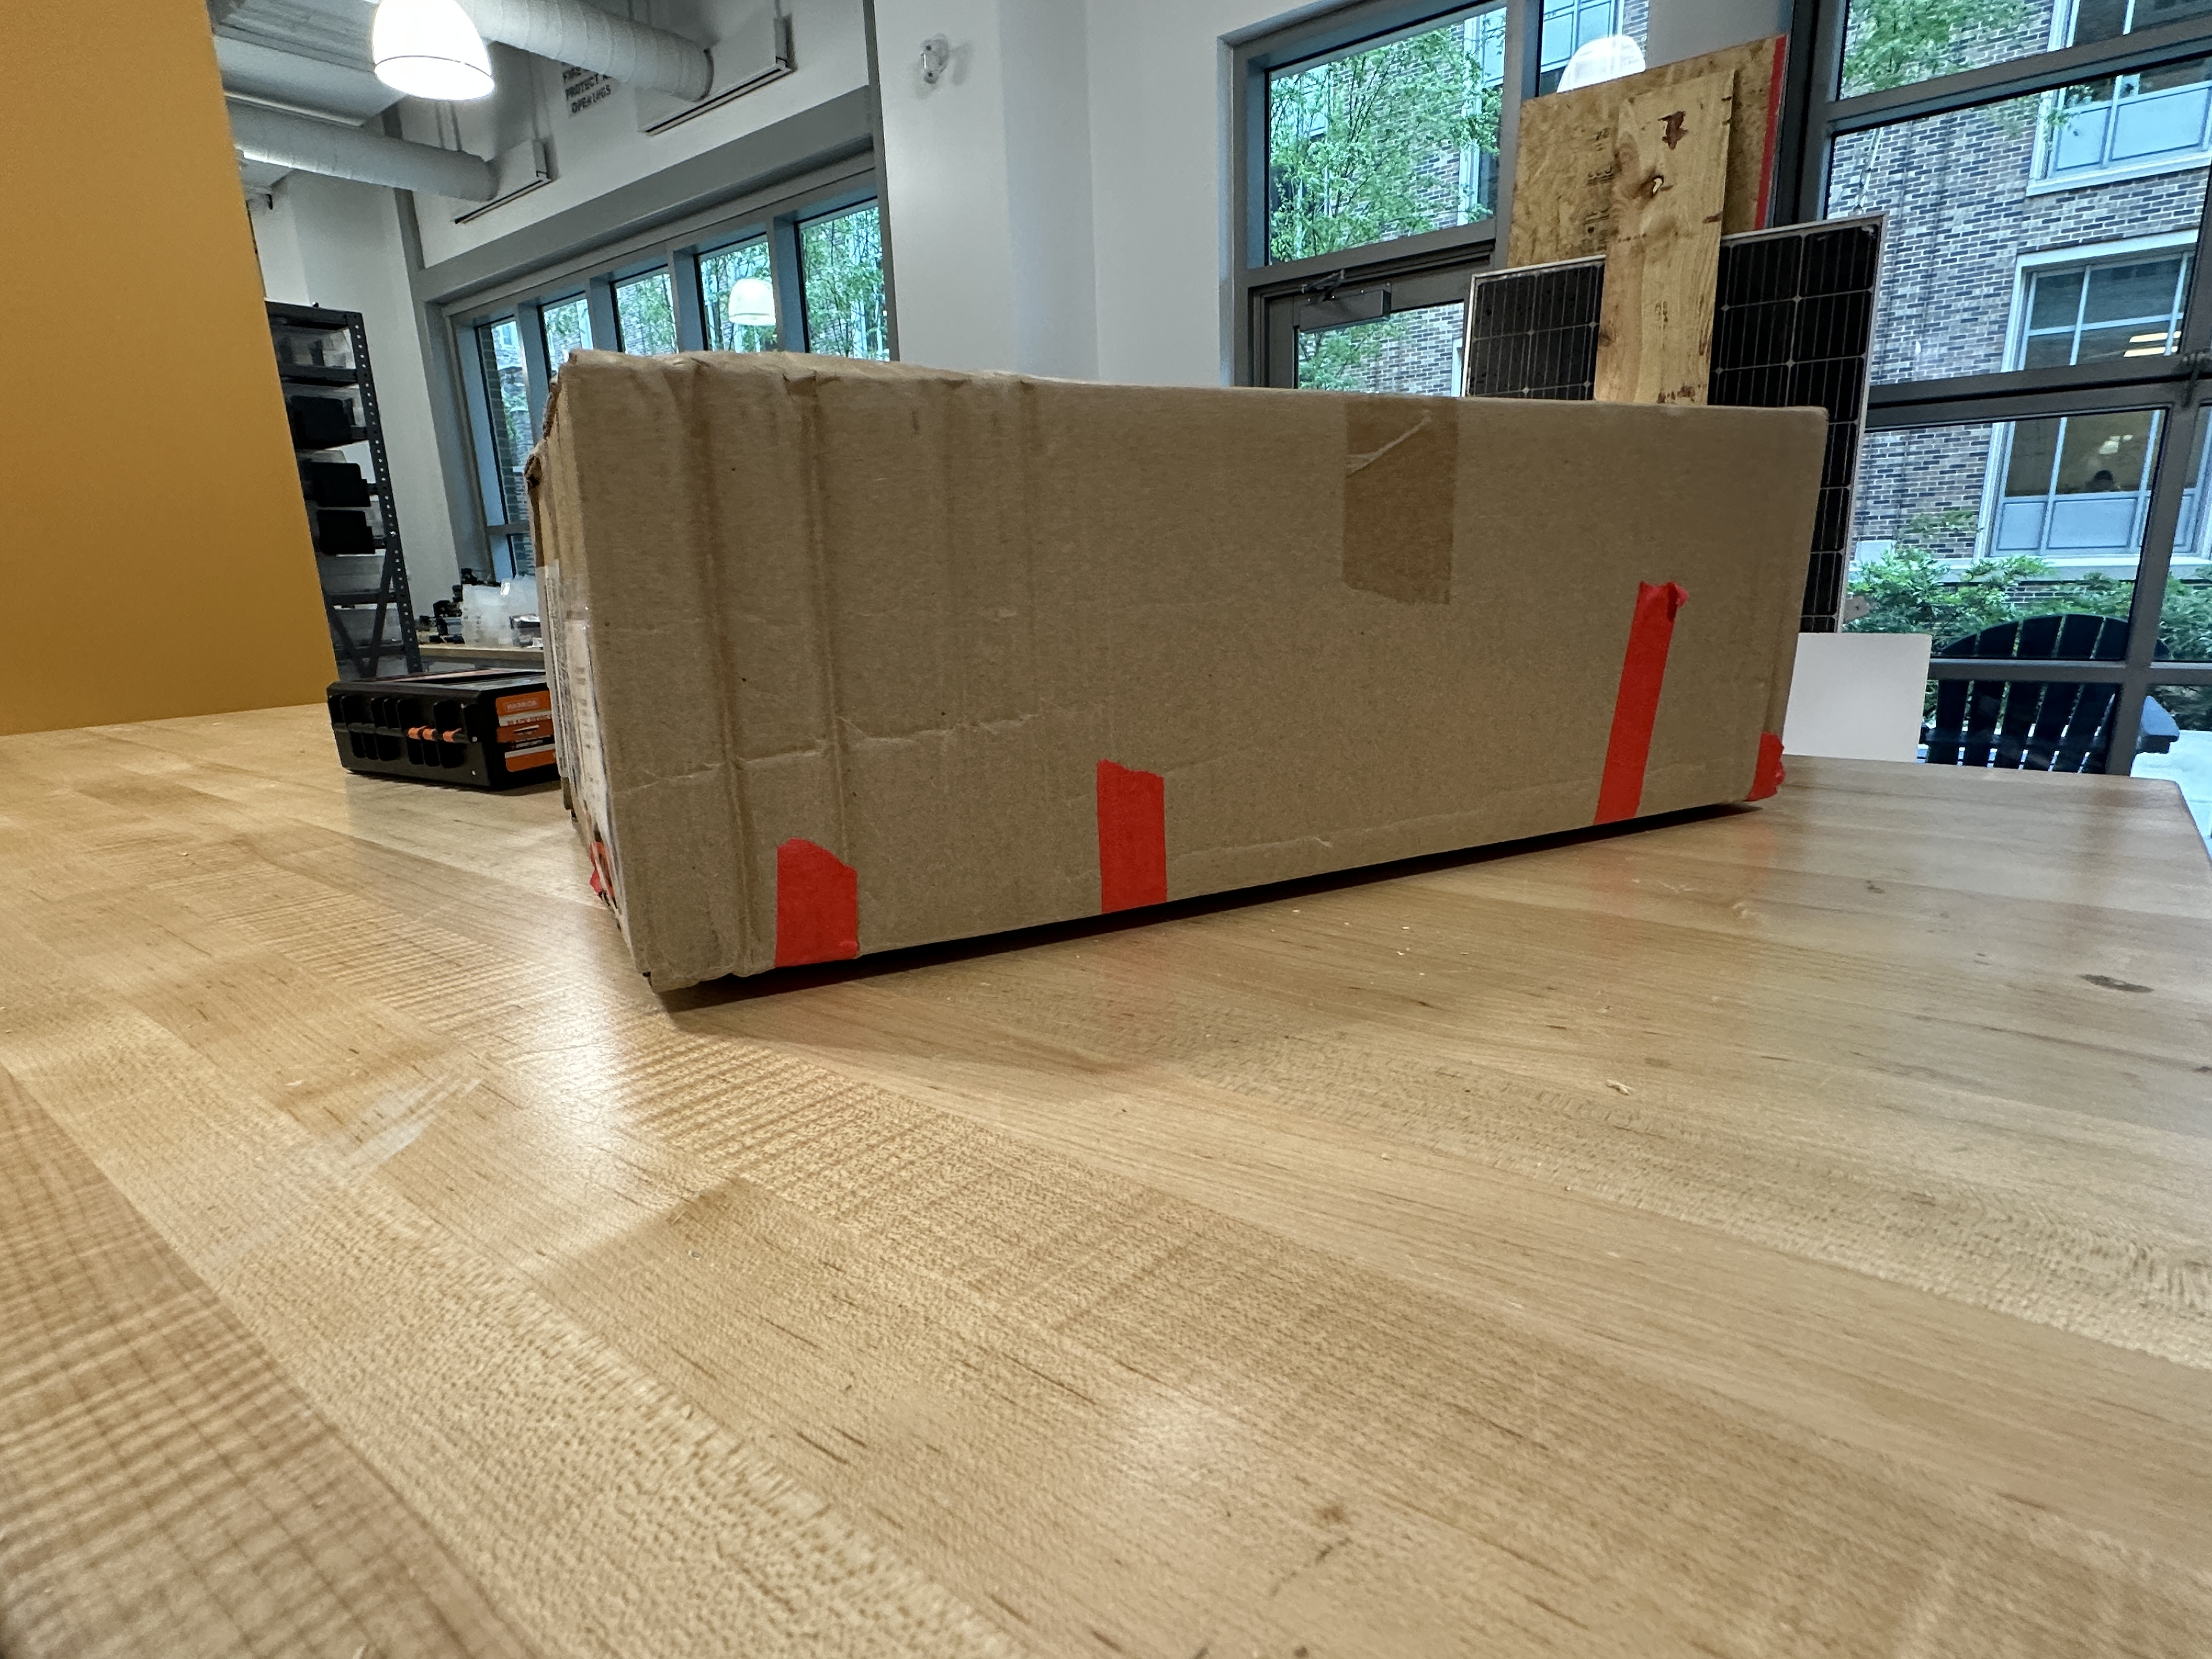Box_Obstacle: (510, 335, 1853, 1016)
